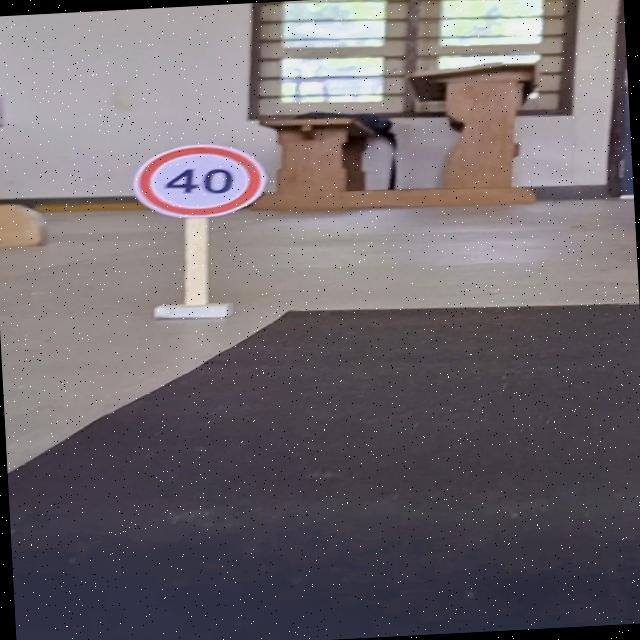Speed40: (128, 138, 274, 228)
